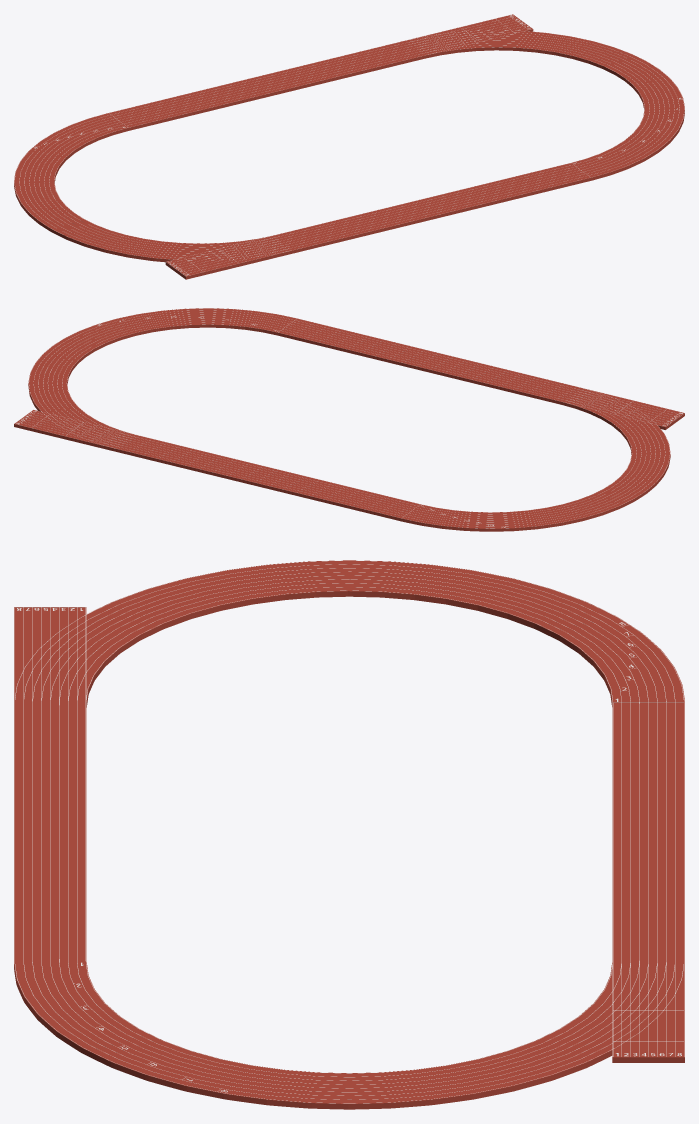
Rendered from RunningTrack.fbx.
3 renders of one model, top to bottom at view 1: azimuth 30°, elevation 25°; view 2: azimuth 150°, elevation 25°; view 3: azimuth 270°, elevation 25°, orthographic. The views are drawn at different scales.
Parts seen in each view (by area): view 1: track, tracklines; view 2: track, tracklines; view 3: track, tracklines.
Boxes of the visible parts, box(x1,y1,x2,y2) form: track: box(14, 14, 684, 279); tracklines: box(14, 14, 684, 276); track: box(14, 308, 684, 531); tracklines: box(16, 308, 684, 528); track: box(14, 560, 684, 1109); tracklines: box(14, 560, 684, 1103).
Bounding box in the file's own units: 17632 × 86.77 × 9198.
